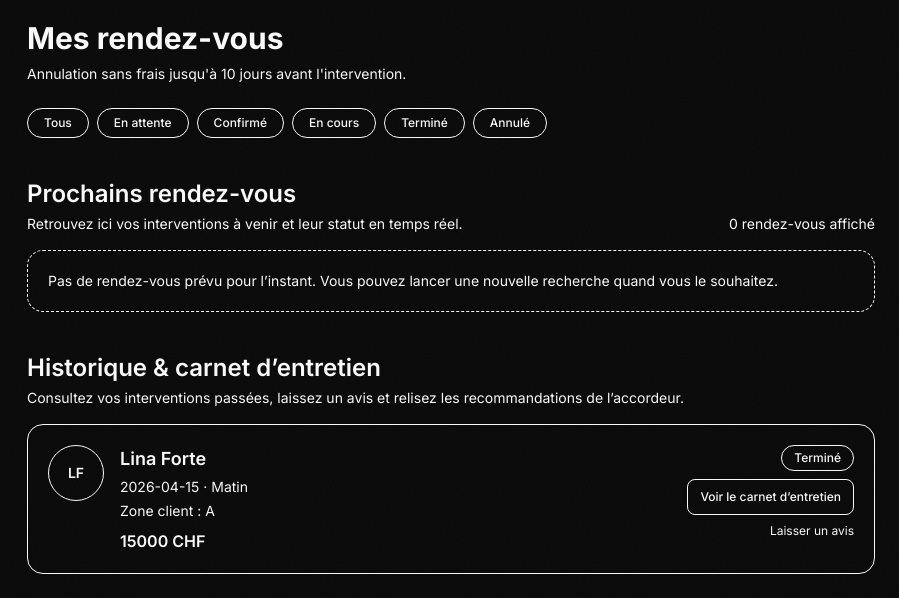
it: ClientDashboard › charge et affiche le carnet d'entretien dans une modale
Click the button "Voir le carnet d’entretien" at (771, 497), box [687,479,854,515]
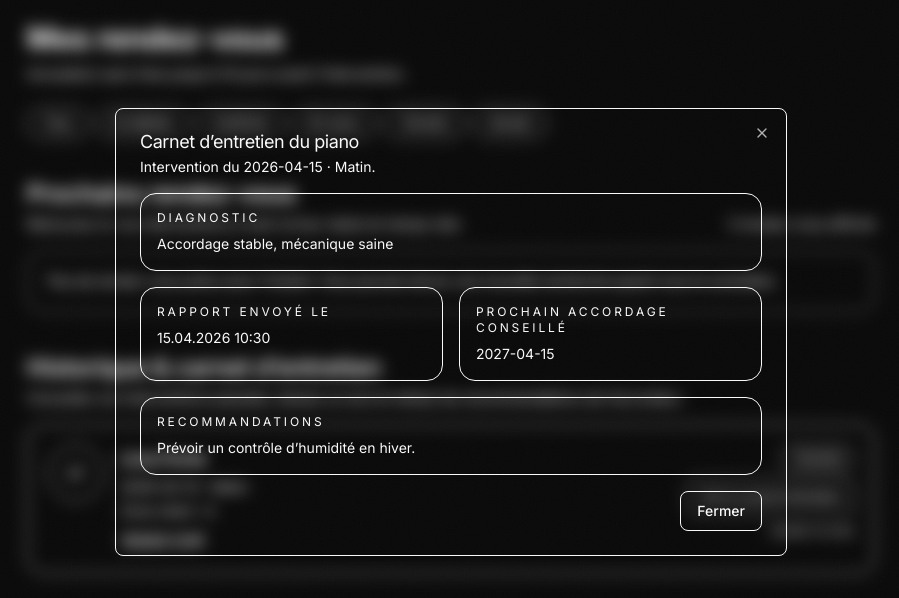
Expected: the text "Accordage stable, mécanique saine" is shown, [157,235,393,252]
Expected: the text "Prévoir un contrôle d’humidité en hiver." is shown, [157,439,415,456]
